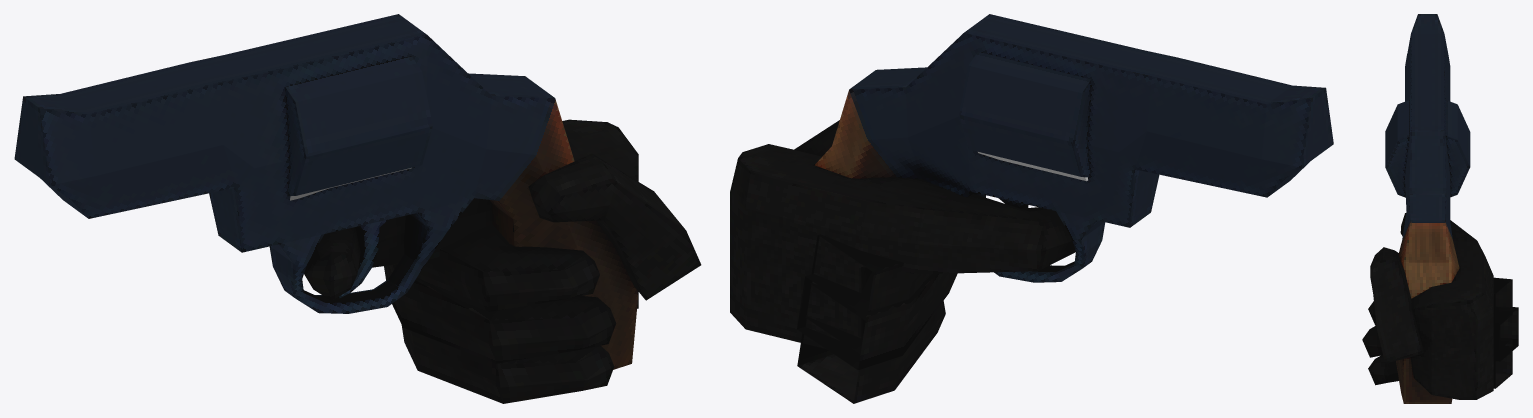
Rendered from gun.glb.
3 views of the same model, side by side, from view 1: azimuth 30°, elevation 25°; view 2: azimuth 150°, elevation 25°; view 3: azimuth 270°, elevation 25° (orthographic). The views are drawn at different scales.
Visible parts, largest first — view 1: Cube, Cylinder.001, Cube.007, Cube.005, Cube.004, Cube.003, Cube.006, Cube.001; view 2: Cube, Cube.003, Cylinder.001, Cube.005, Cube.006, Cube.004, Cube.007; view 3: Cube, Cube.003, Cube.007, Cylinder.001, Cube.005, Cube.006, Cube.004.
Boxes of the visible parts, x1,y1,x2,y2 form: Cube: (14, 14, 637, 369); Cylinder.001: (285, 56, 432, 196); Cube.007: (528, 153, 701, 300); Cube.005: (384, 264, 616, 363); Cube.004: (417, 224, 599, 311); Cube.003: (304, 119, 638, 308); Cube.006: (401, 325, 614, 403); Cube.001: (338, 219, 388, 298); Cube: (815, 14, 1333, 282); Cube.003: (730, 144, 1075, 348); Cylinder.001: (959, 52, 1091, 177); Cube.005: (797, 271, 957, 370); Cube.006: (797, 301, 945, 403); Cube.004: (810, 234, 931, 320); Cube.007: (794, 120, 839, 156); Cube: (1396, 14, 1459, 403); Cube.003: (1400, 213, 1493, 399); Cube.007: (1370, 247, 1424, 362); Cylinder.001: (1385, 100, 1470, 197); Cube.005: (1362, 306, 1518, 361); Cube.006: (1368, 338, 1512, 388); Cube.004: (1368, 277, 1512, 325).
Size of the model in its own units: 4.92 by 3.01 by 1.81.
3 materials, 3 textured.
